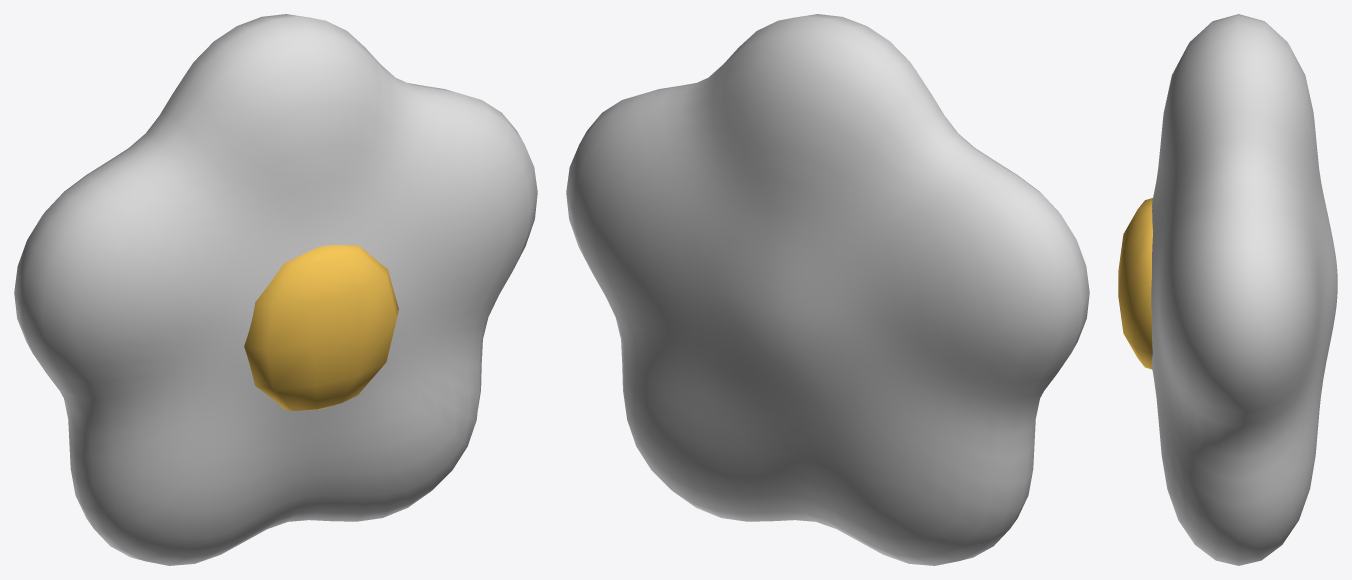
Rendered from shape_flower.glb.
3 views of the same model, side by side, from view 1: azimuth 30°, elevation 25°; view 2: azimuth 150°, elevation 25°; view 3: azimuth 270°, elevation 25° (orthographic). The views are drawn at different scales.
Visible parts, largest first — view 1: shape_flower; view 2: shape_flower; view 3: shape_flower.
Part boxes in pixels (x1,y1,x2,y2): shape_flower: (14, 14, 537, 565); shape_flower: (566, 14, 1089, 565); shape_flower: (1118, 14, 1337, 565).
Size of the model in its own units: 1 by 0.9715 by 0.3958.
